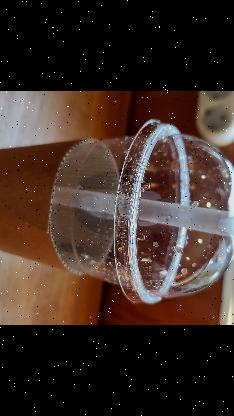Others: (0, 116, 234, 306), (111, 120, 234, 306), (55, 186, 234, 254)
